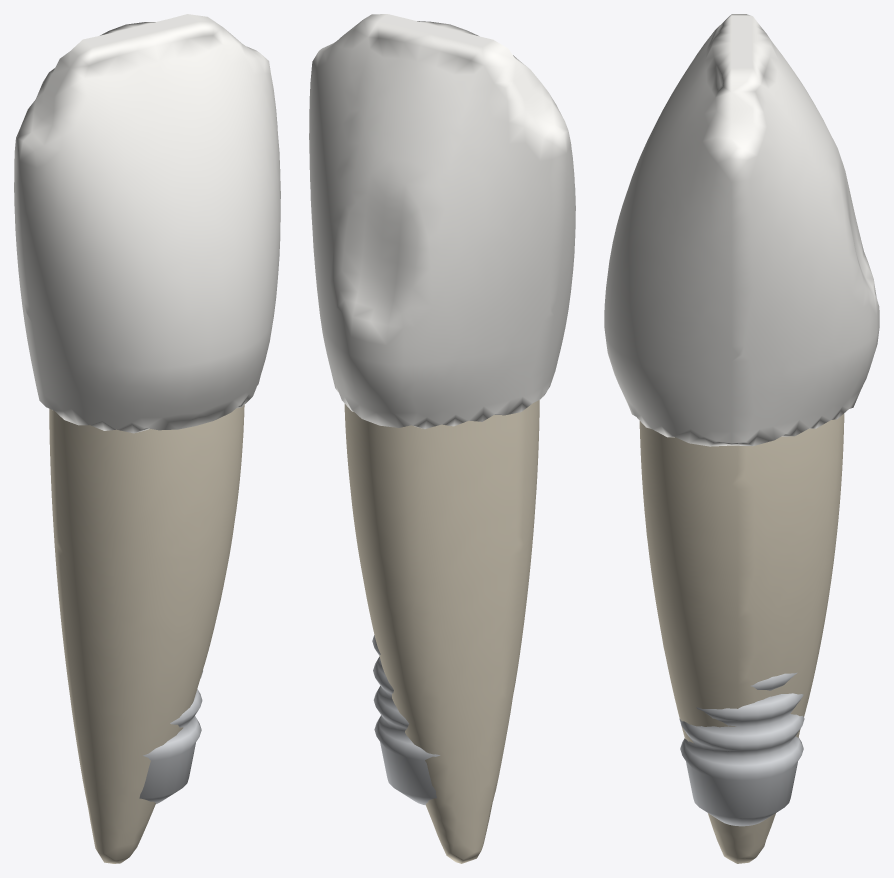
The picture shows the model from 3 angles, left to right: view 1: azimuth 30°, elevation 25°; view 2: azimuth 150°, elevation 25°; view 3: azimuth 270°, elevation 25°; orthographic projection.
Visible parts, largest first — view 1: crown, root, implant; view 2: crown, root, implant; view 3: crown, root, implant.
Part boxes in pixels (box(x1,y1,x2,y2)): crown: box(14, 14, 280, 433); root: box(49, 405, 244, 863); implant: box(139, 670, 202, 803); crown: box(309, 14, 575, 428); root: box(344, 400, 539, 863); implant: box(372, 635, 440, 805); crown: box(604, 14, 879, 446); root: box(639, 413, 844, 863); implant: box(679, 672, 804, 826).
Bounding box in the file's own units: 7.17 × 22.34 × 6.7.
